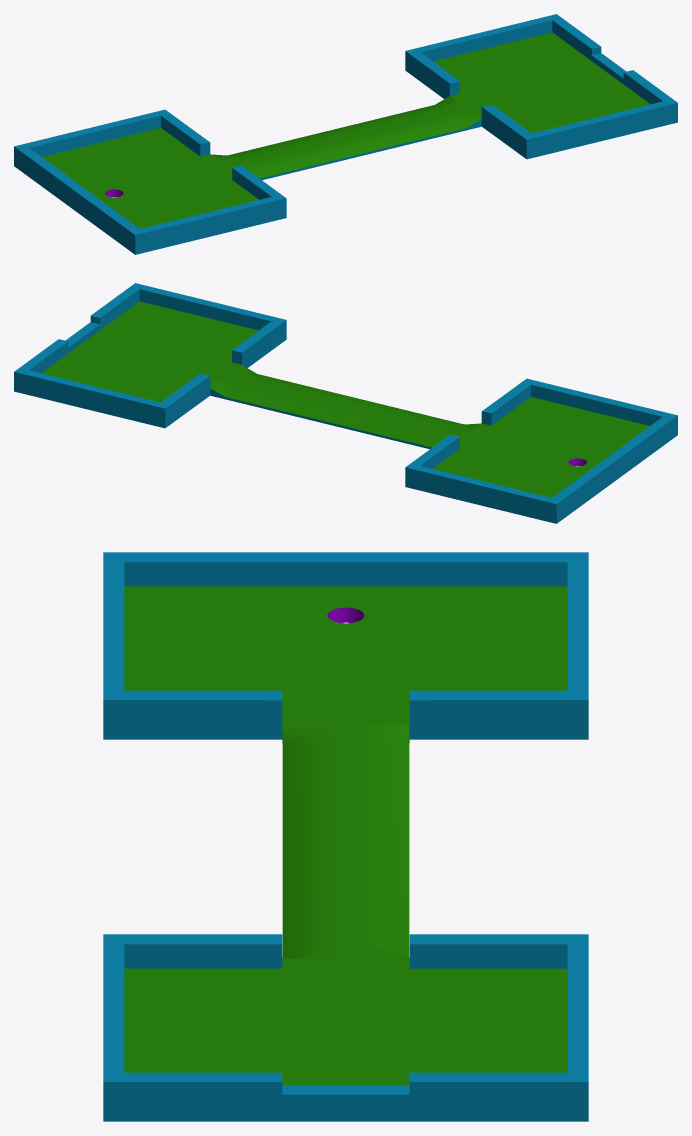
File: Level6.fbx
The picture shows the model from 3 angles, top to bottom: view 1: azimuth 30°, elevation 25°; view 2: azimuth 150°, elevation 25°; view 3: azimuth 270°, elevation 25°; orthographic projection. The views are drawn at different scales.
Visible parts, largest first — view 1: pCube5; view 2: pCube5; view 3: pCube5.
Part boxes in pixels (x1=…): pCube5: x1=14, y1=14, x2=677, y2=254; pCube5: x1=14, y1=283, x2=677, y2=523; pCube5: x1=103, y1=552, x2=588, y2=1121.
Bounding box in the file's own units: 12 × 0.417 × 4.65.
1 material, 1 textured.
